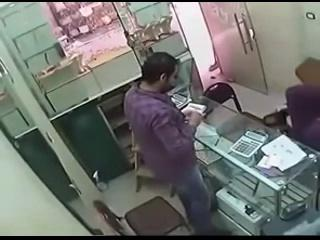Normal: (123, 52, 218, 234)
